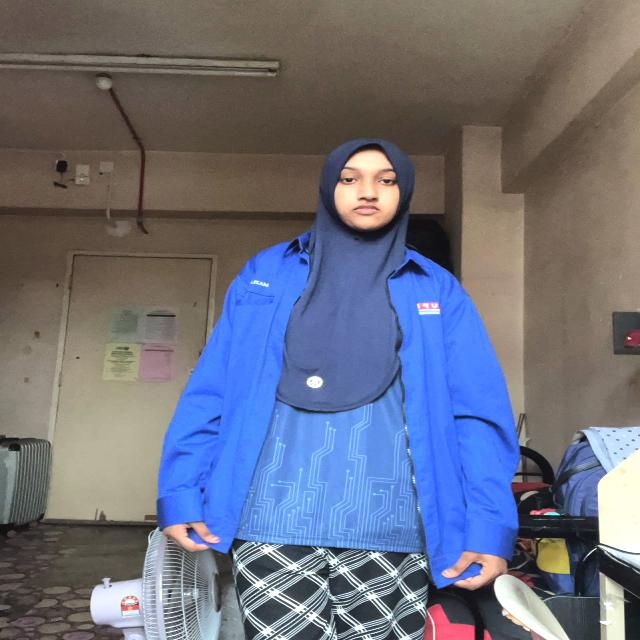person_with_labcoat: (157, 139, 519, 640)
person_without_labcoat: (157, 138, 519, 640)
